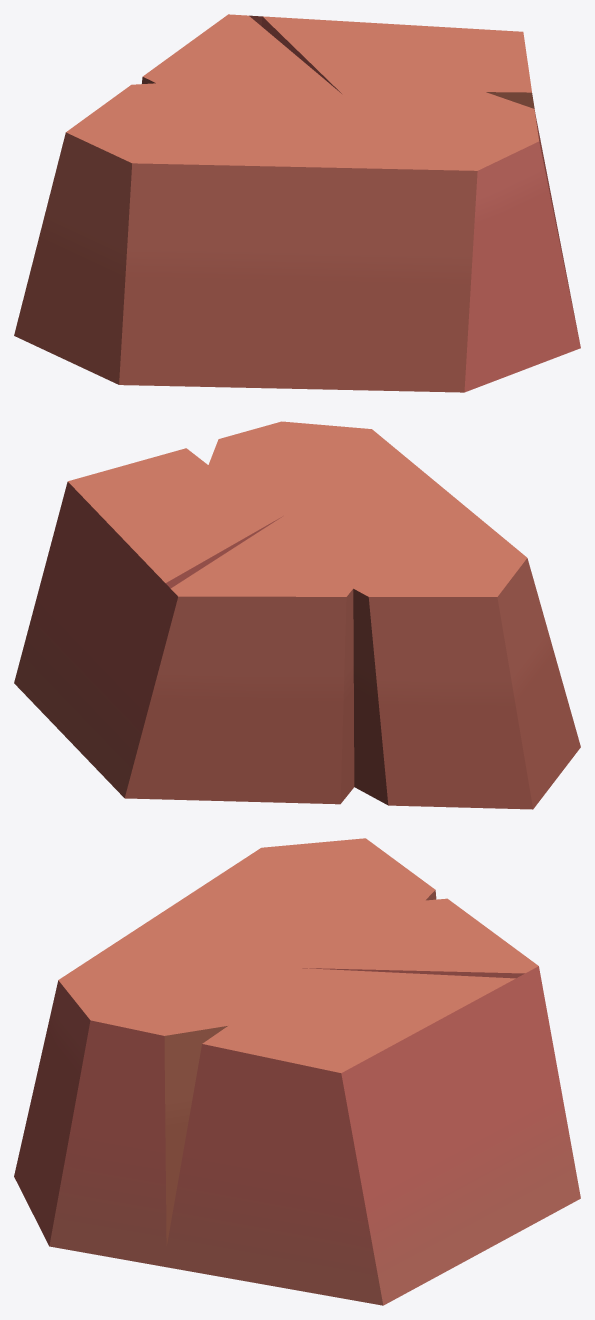
The model's file is RockDebris1.fbx.
3 renders of one model, top to bottom at view 1: azimuth 30°, elevation 25°; view 2: azimuth 150°, elevation 25°; view 3: azimuth 270°, elevation 25°, orthographic. The views are drawn at different scales.
Visible parts, largest first — view 1: RockDebris1; view 2: RockDebris1; view 3: RockDebris1.
Boxes of the visible parts, x1,y1,x2,y2 form: RockDebris1: [14, 14, 580, 392]; RockDebris1: [14, 421, 580, 809]; RockDebris1: [14, 838, 580, 1305].
Size of the model in its own units: 5.18 by 1.87 by 4.49.
